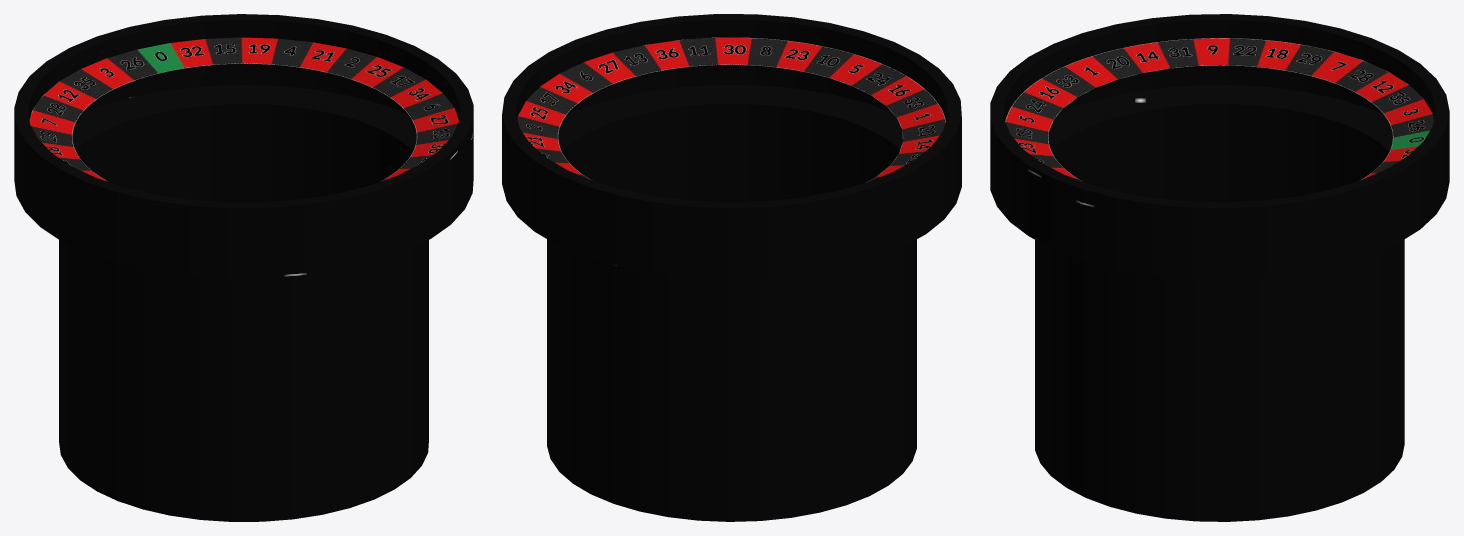
File: Roleta_Cor1fbx.fbx
3 views of the same model, side by side, from view 1: azimuth 30°, elevation 25°; view 2: azimuth 150°, elevation 25°; view 3: azimuth 270°, elevation 25° (orthographic).
Parts seen in each view (by area): view 1: Roleta, Rodinha; view 2: Roleta, Rodinha; view 3: Roleta, Rodinha.
Boxes of the visible parts, x1,y1,x2,y2 form: Roleta: (14,14,473,521); Rodinha: (29,37,458,181); Roleta: (502,14,961,521); Rodinha: (517,37,945,182); Roleta: (990,14,1449,521); Rodinha: (1005,38,1433,181).
Bounding box in the file's own units: 432 × 388 × 432.
2 materials, 2 textured.
